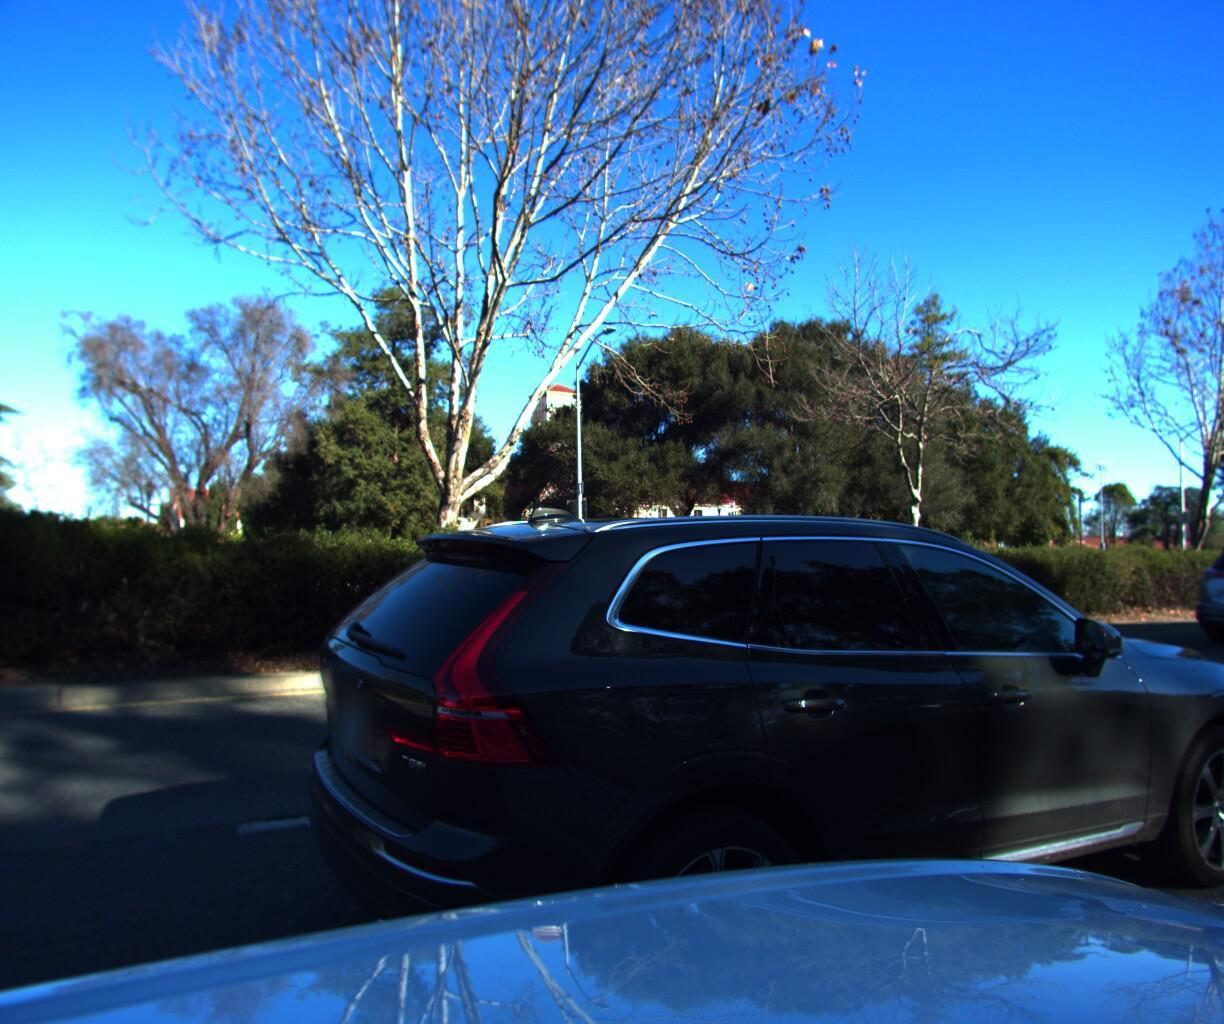car: (309, 476, 1224, 1024), (1184, 535, 1224, 660)
